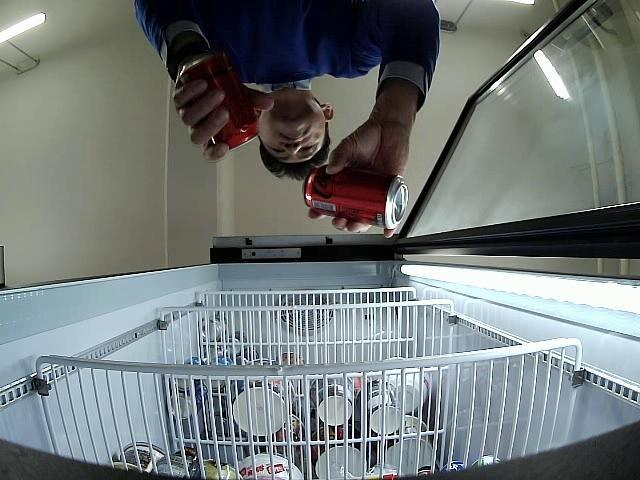11_cocaColaZero: (179, 50, 260, 154), (302, 164, 408, 228)
